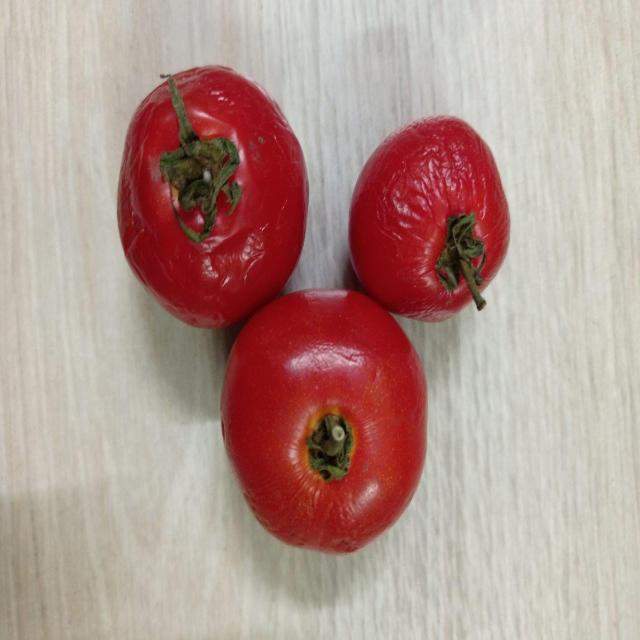overripe: (218, 287, 432, 554), (114, 57, 311, 333), (347, 115, 512, 326)
